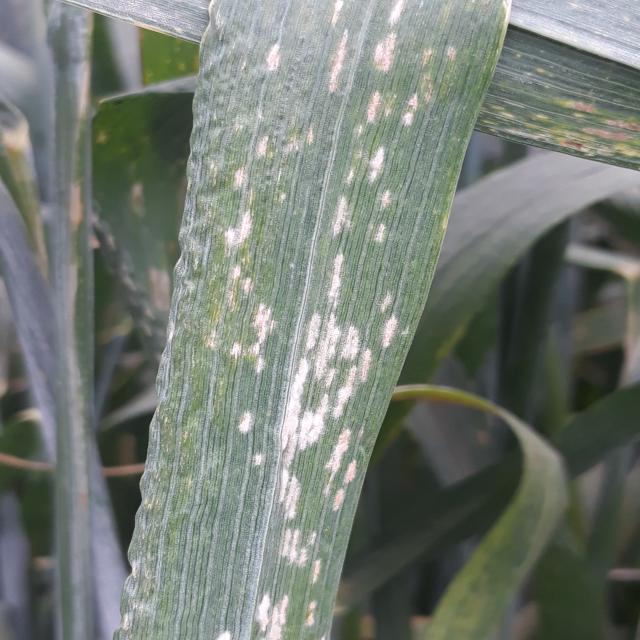powder_mildew: (74, 1, 512, 640), (506, 0, 640, 192)
